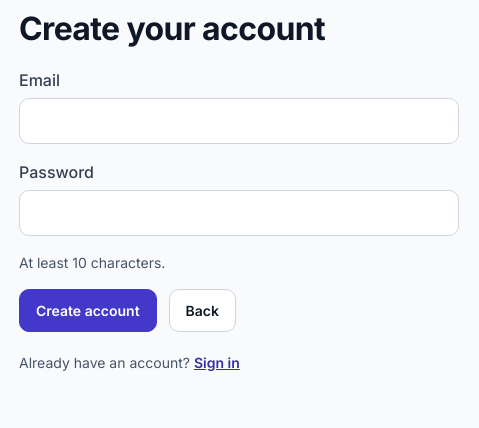
AccountForm › in signUp mode, the Create account button explains a 409
Type "someone@acme.example" into the field labelled "Email" at x=239, y=121, box [19,98,459,144]
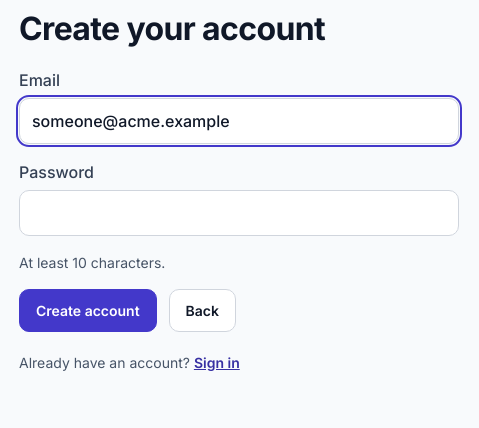
Type "correct-horse-battery" into the password field labelled "Password" at x=239, y=213, box [19,190,459,236]
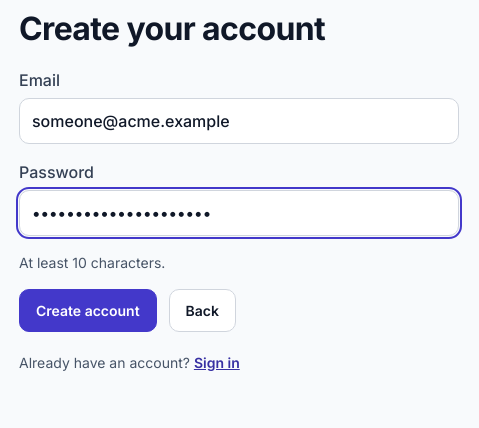
Click the button "Create account" at x=88, y=310, box [19,289,157,332]
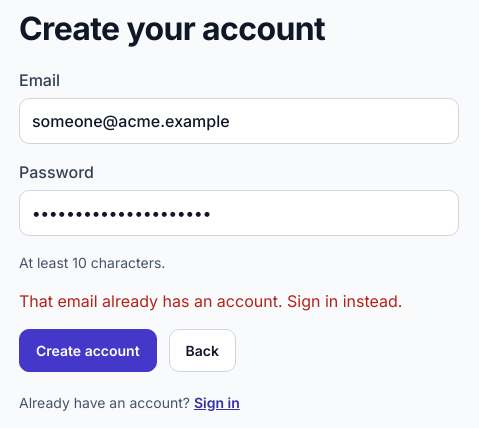
expect the button "Create account" is enabled: met, box [19,329,157,372]
expect the message shows "That email already has an account": met, box [19,291,402,311]
